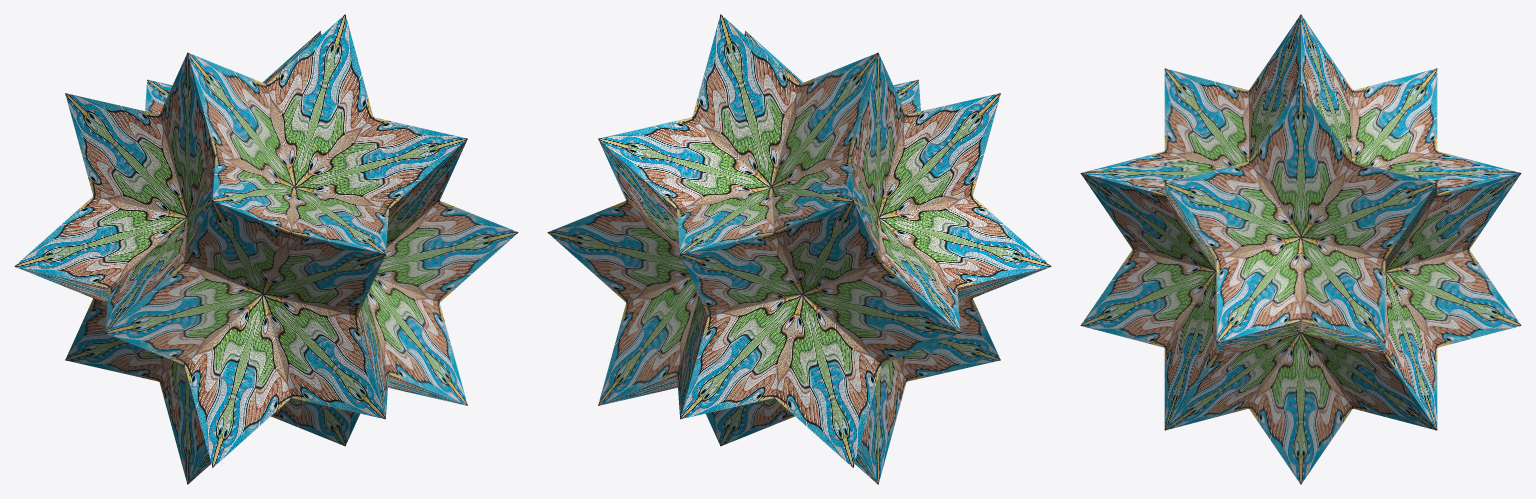
Rendered from RhombicHexecontahedron6.obj.
3 renders of one model, left to right at view 1: azimuth 30°, elevation 25°; view 2: azimuth 150°, elevation 25°; view 3: azimuth 270°, elevation 25°, orthographic. The views are drawn at different scales.
Size of the model in its own units: 4.45 by 4.45 by 4.45.
Materials: 1 (1 with a texture image).
